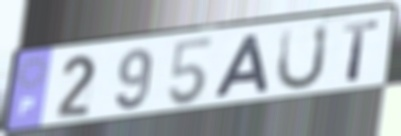2: (54, 53, 98, 119)
5: (165, 34, 216, 110)
9: (113, 47, 154, 112)
A: (211, 32, 272, 102)
T: (341, 18, 381, 83)
U: (274, 21, 332, 93)
